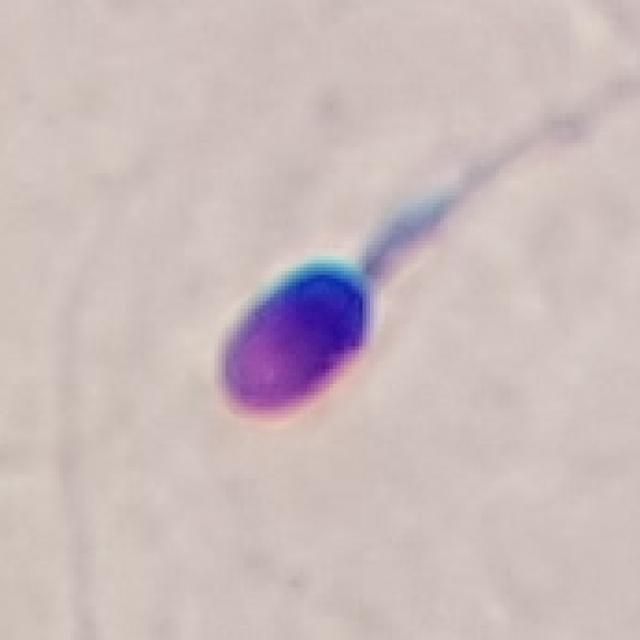normal sperm: (203, 127, 548, 444)
